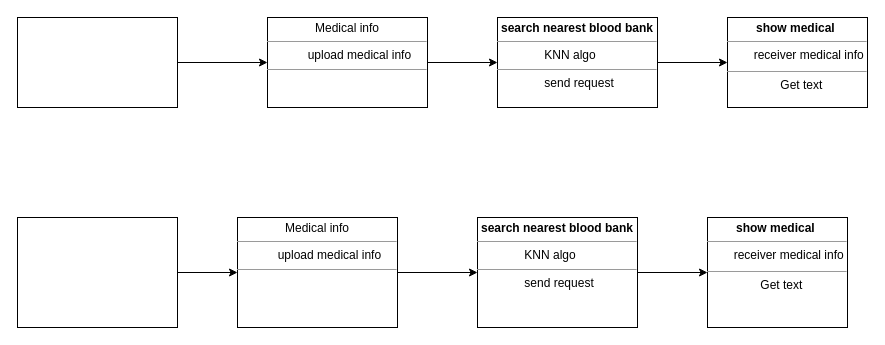
The diagram is 885 pixels wide and 345 high, and some of its shapes have lost their labels. Each missing label, with the box of its shape:
Donar Blood group predication upload image,CNN algo: (16, 16, 178, 108)
Receiver/hospital blood bank Registration/Login add Soicety member Car detail: (16, 216, 178, 328)
